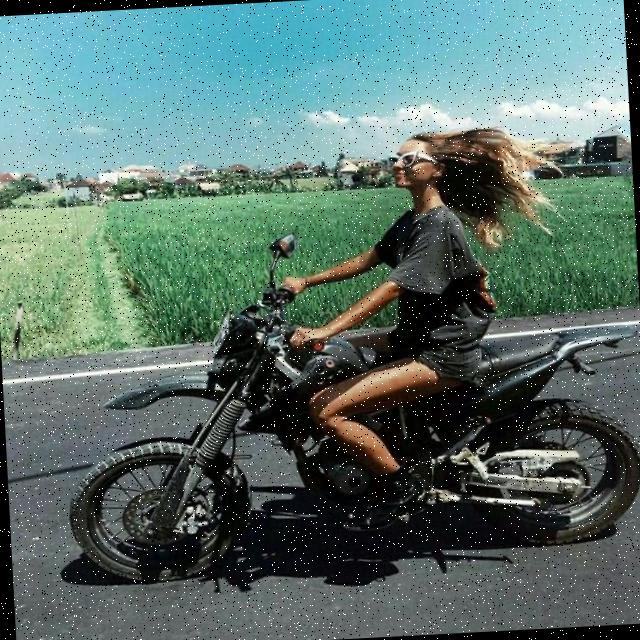No helmet: (367, 131, 468, 230)
